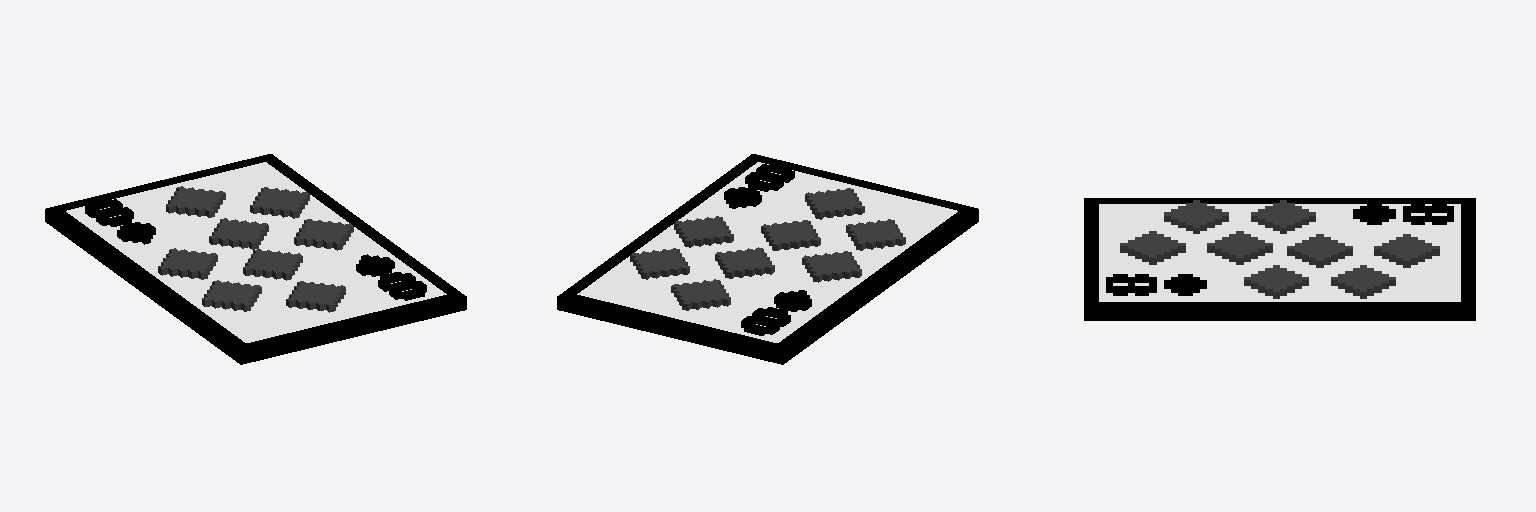
3 views of the same model, side by side, from view 1: azimuth 30°, elevation 25°; view 2: azimuth 150°, elevation 25°; view 3: azimuth 270°, elevation 25° (orthographic).
Size of the model in its own units: 36 by 3 by 54.
1 materials, 1 textured.